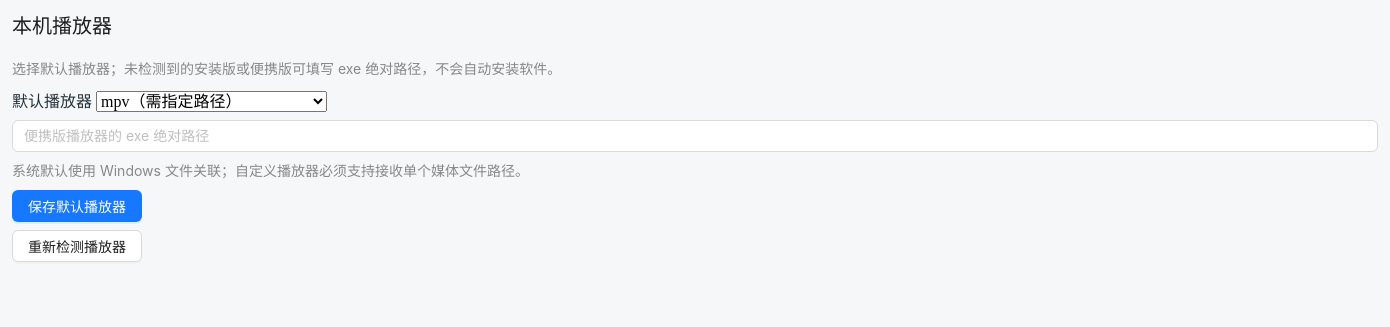
Test case: allows portable exe paths and reports validation failure without claiming success
The width and height of the screenshot is (1390, 327).
Select "自定义播放器（需指定路径）" in the dropdown labelled "默认播放器": [212, 101] box [96,91,327,112]
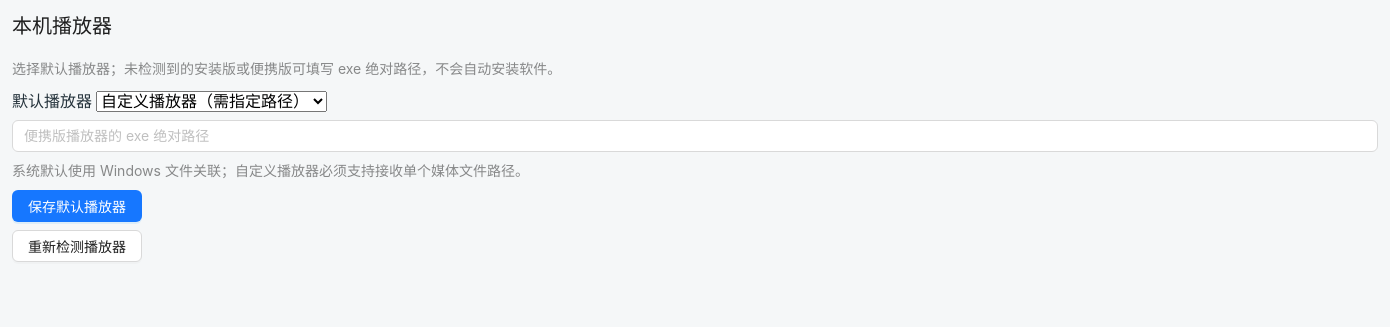
In the field named "播放器可执行文件": [695, 136] box [12,120,1378,152], type "D:/portable/player.exe"
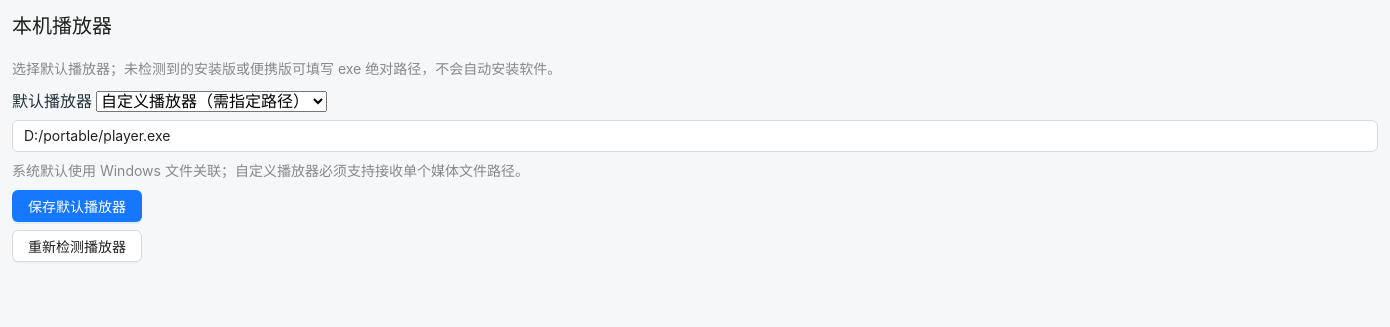
Click the button "保存默认播放器": [77, 206] box [12,190,142,222]
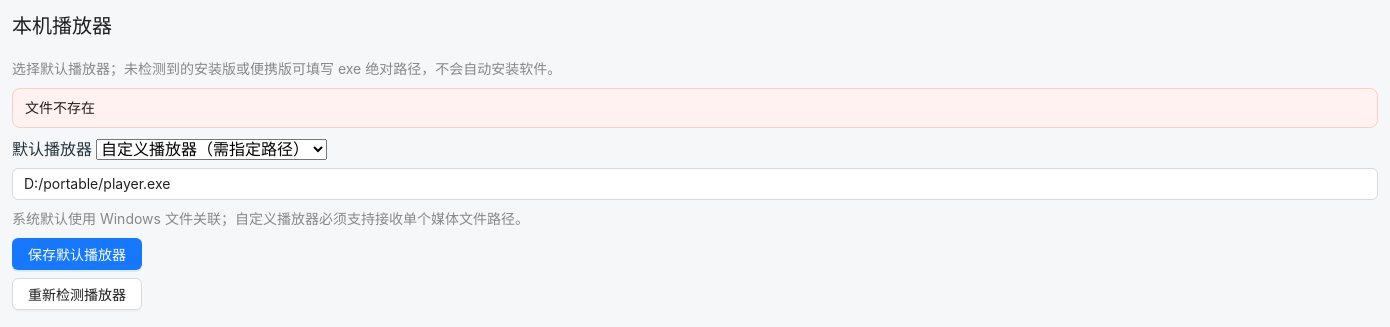
Expected: the text "文件不存在" is shown, [25,99,95,116]
